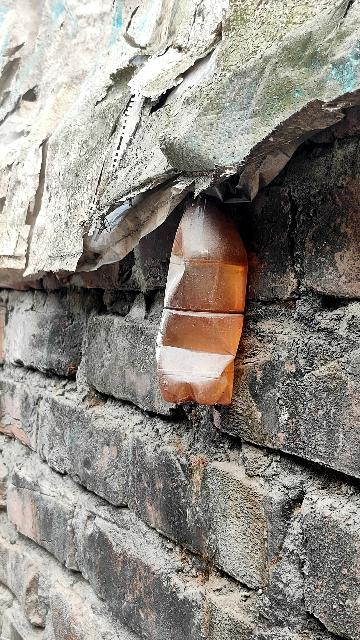bottle: (147, 185, 251, 412)
